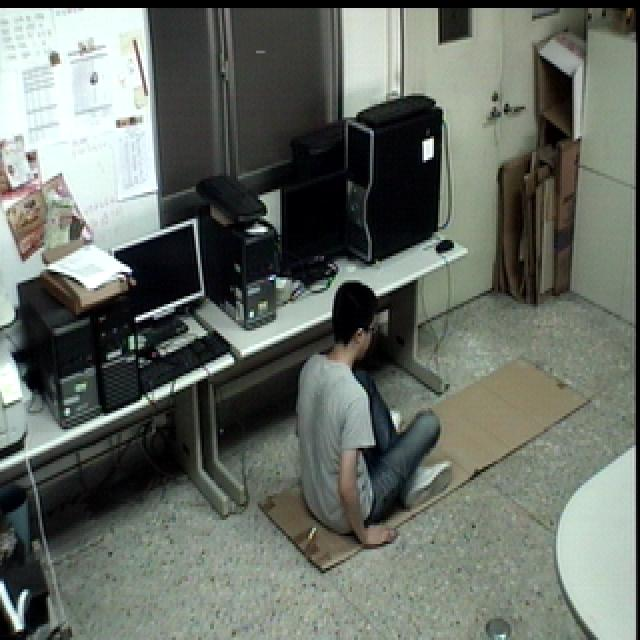sit: (286, 269, 458, 550)
